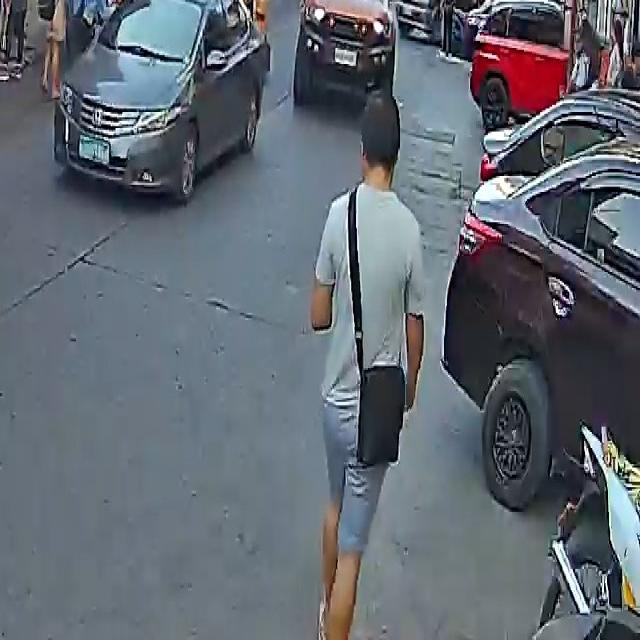car: (443, 110, 640, 524), (50, 0, 267, 204), (463, 0, 606, 124), (298, 0, 399, 105), (400, 0, 499, 50), (300, 0, 392, 21)
